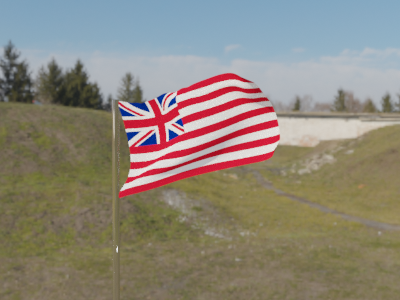Malaysia flag: (119, 72, 282, 197)
